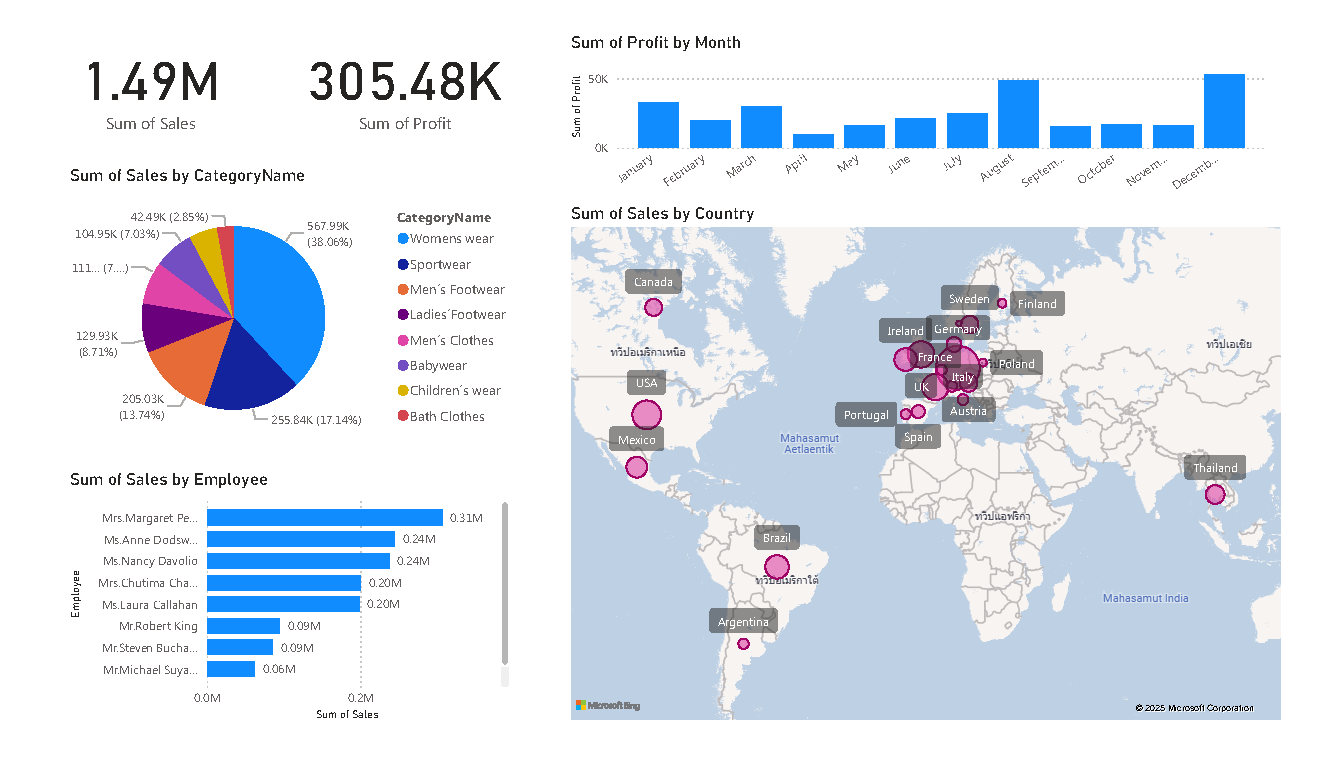

Layout of this report page (visuals, bound fields, positions):
{"tool":"powerbi","page":{"name":"Page 1","canvas":[1280,720],"ordinal":0},"visuals":[{"type":"card","fields":{"Values":["Order Details.Sales"]},"box":[0,0,252.6,120.6],"z":0},{"type":"card","fields":{"Values":["Order Details.Profit"]},"box":[252.6,0,256,120.6],"z":1},{"type":"pieChart","fields":{"Category":["Categories.CategoryName"],"Y":["Order Details.Sales"]},"box":[41,141.1,455.1,286.7],"z":2},{"type":"barChart","fields":{"Category":["Employee.Employee"],"Y":["Order Details.Sales"]},"box":[41,444.9,449.4,256],"z":3},{"type":"map","fields":{"Category":["Customers.Country","Customers.City"],"Size":["Order Details.Sales"]},"box":[541.6,178.6,715.7,522.2],"z":4},{"type":"columnChart","fields":{"Category":["Order Details.OrderDate.Variation.Date Hierarchy.Month"],"Y":["Order Details.Profit"]},"box":[541.6,8,705.4,170.7],"z":5}]}

Visuals, with their boxes on the page's 1280x720 design canvas (x1, y1, x2, y2). These are canvas units, not pixel positions in the 1328x768 screenshot, which may show the page scaled, cropped or inside an application window:
card - Order Details.Sales: (0, 0, 253, 121)
card - Order Details.Profit: (253, 0, 509, 121)
pieChart - Categories.CategoryName x Order Details.Sales: (41, 141, 496, 428)
barChart - Employee.Employee x Order Details.Sales: (41, 445, 490, 701)
map - Customers.Country x Customers.City: (542, 179, 1257, 701)
columnChart - Order Details.OrderDate.Variation.Date Hierarchy.Month x Order Details.Profit: (542, 8, 1247, 179)
